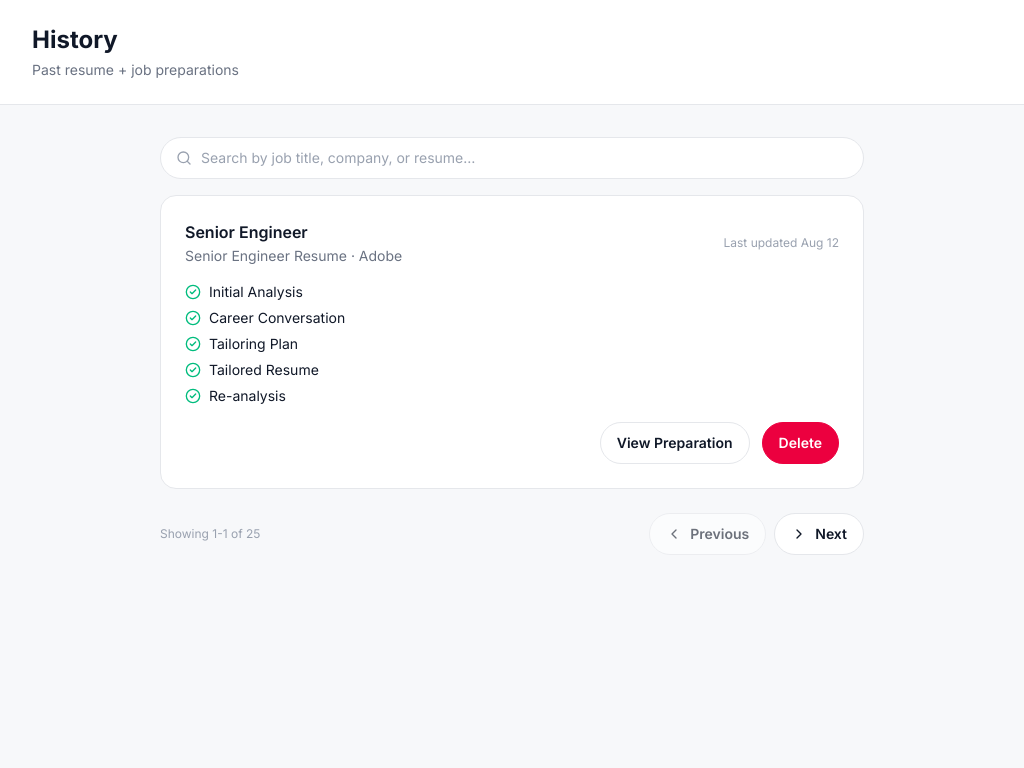
Test: HistoryPage › does not show pagination controls when a search returns zero results
This screenshot has width=1024, height=768.
Expected: the heading "Senior Engineer" is shown, [185,222,308,242]
In the field named "search job preparations": [512, 158] box [160,137,864,179], type "ZS"
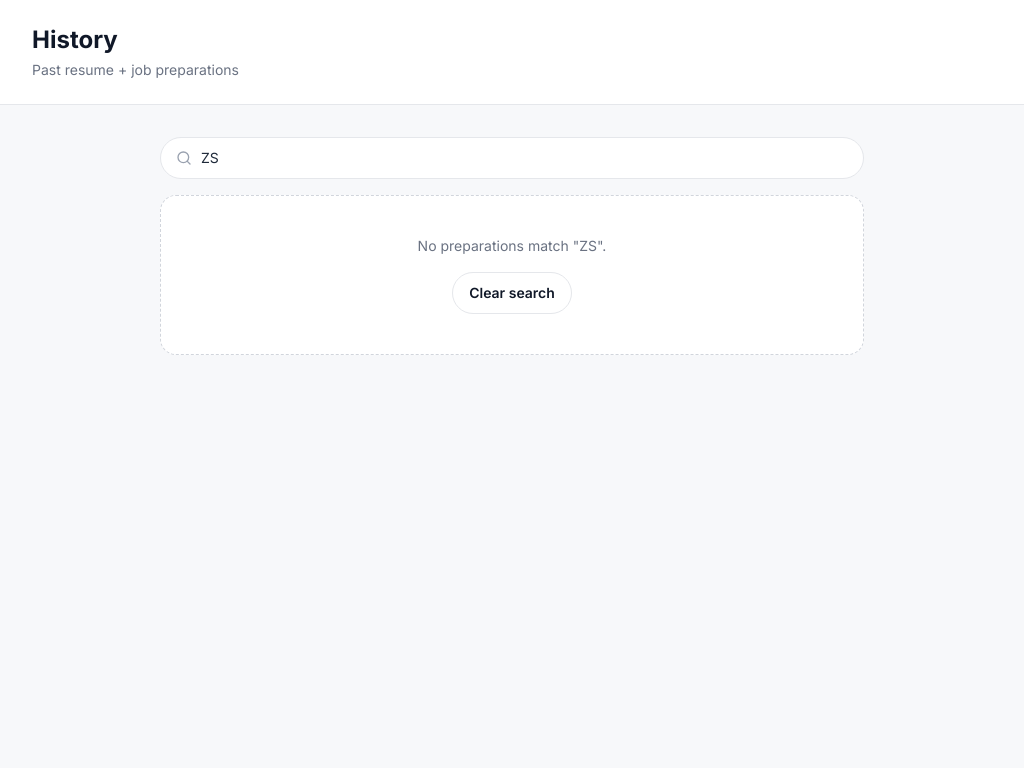
Now the text "No preparations match \"ZS\"." is shown, box [418,237,606,254]
Now the button "Previous" is gone
Now the button "Next" is gone
